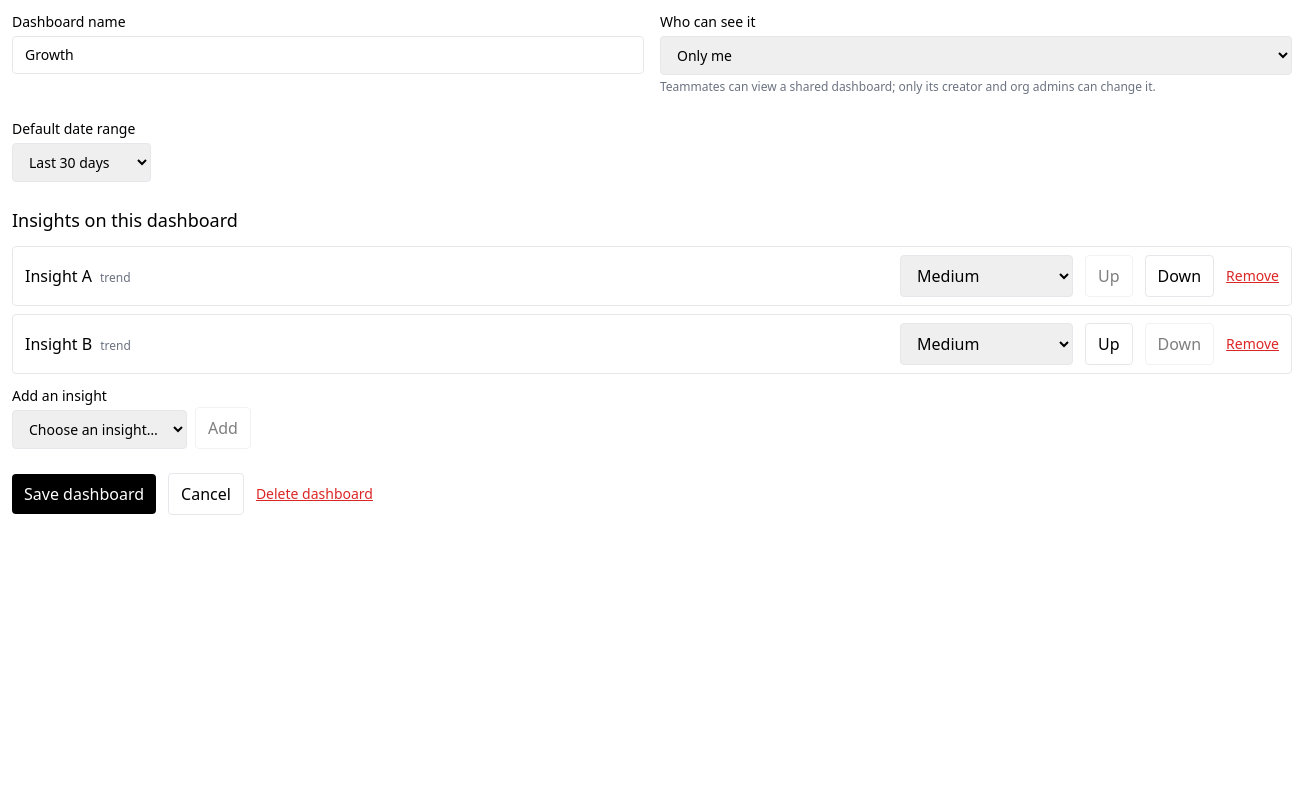
Test: DashboardEditor › surfaces an API failure and does not report success
This screenshot has width=1304, height=812.
Type "!" into the field labelled "Dashboard name" at (328,55), box [12,36,644,74]
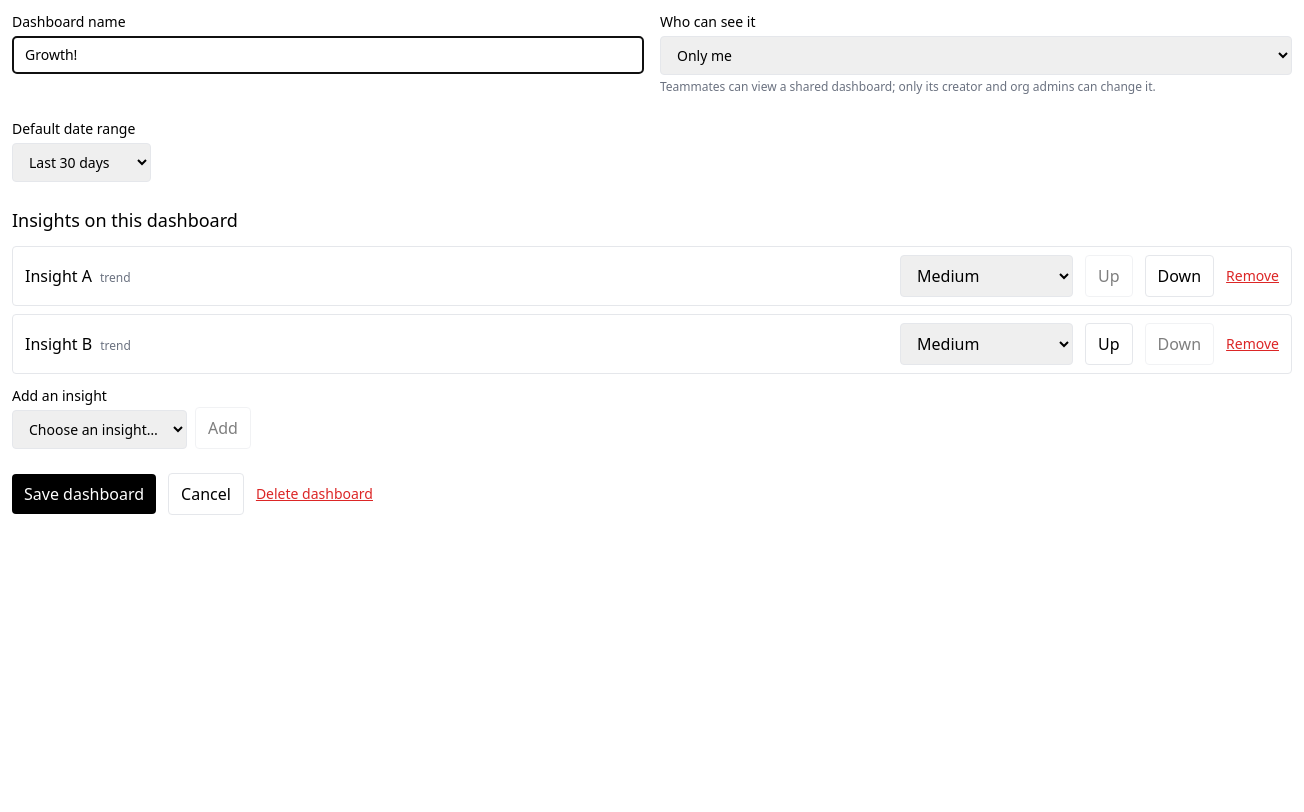
Click the button "Save dashboard" at (84,494), box [12,474,156,514]
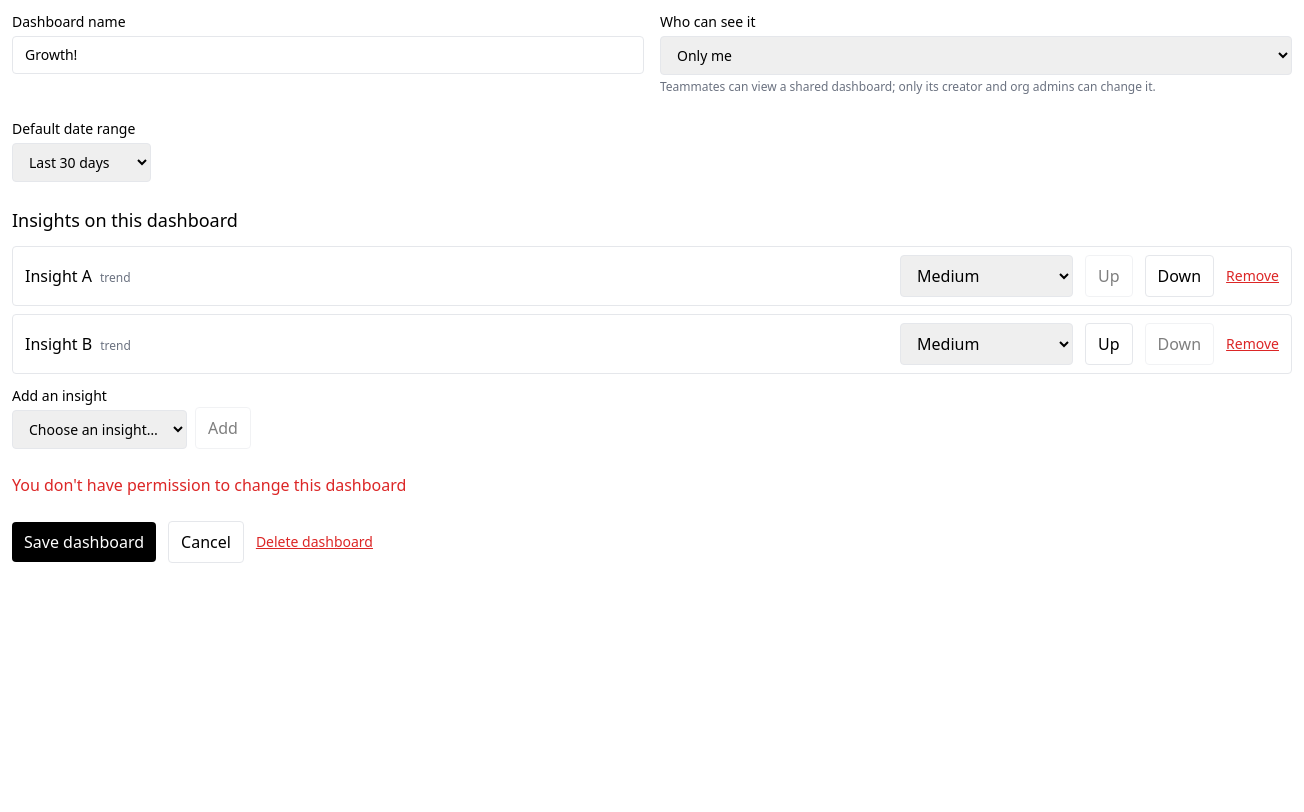
Check: the text "You don't have permission to change this dashboard" is shown, box [12,474,406,496]
